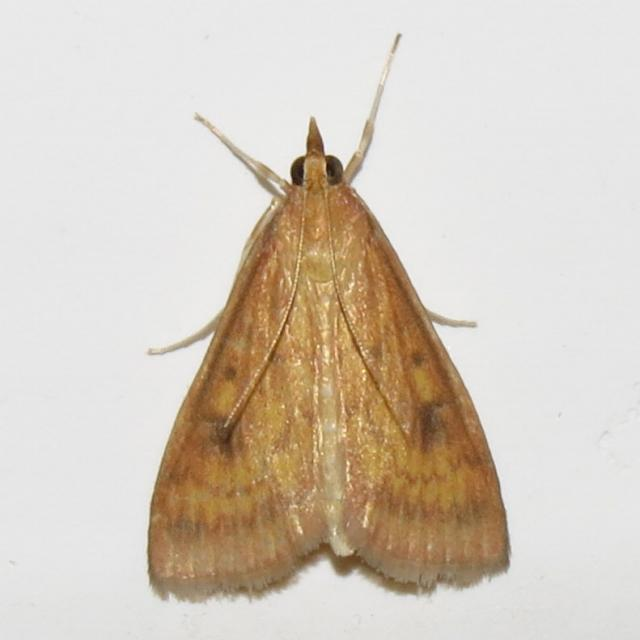cornborer-Adult-: (140, 34, 531, 607)
